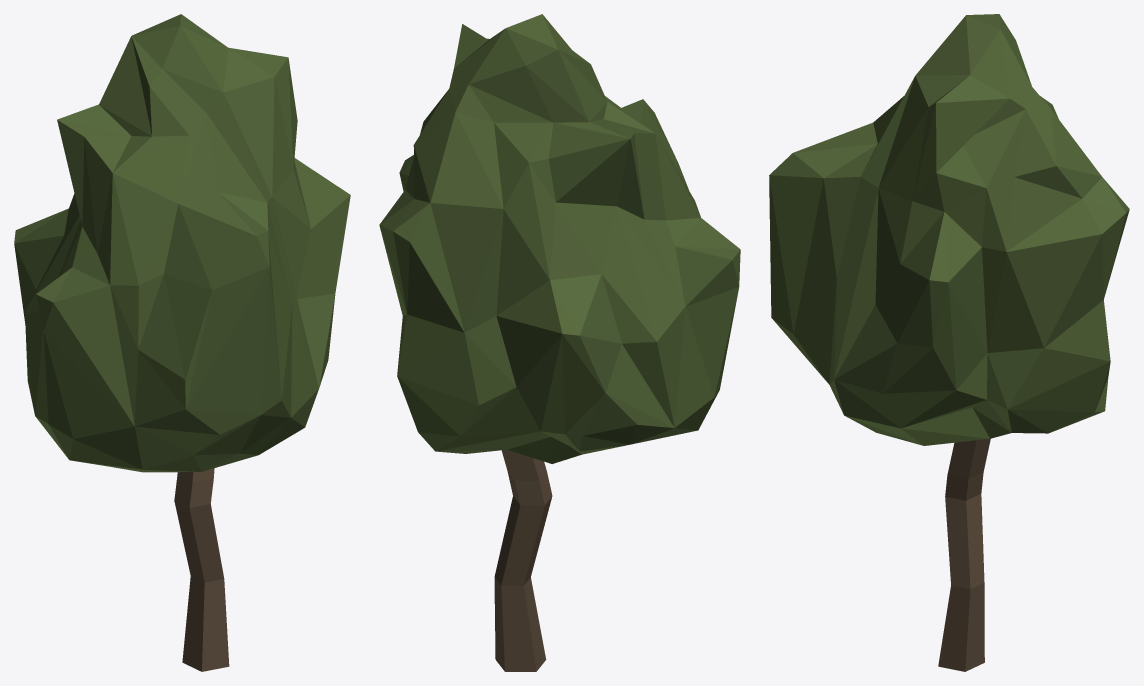
File: tree_24.fbx
3 renders of one model, left to right at view 1: azimuth 30°, elevation 25°; view 2: azimuth 150°, elevation 25°; view 3: azimuth 270°, elevation 25°, orthographic. The views are drawn at different scales.
Parts seen in each view (by area): view 1: tree_024; view 2: tree_024; view 3: tree_024.
Part boxes in pixels (x1=…): tree_024: x1=14, y1=14, x2=350, y2=671; tree_024: x1=379, y1=14, x2=740, y2=671; tree_024: x1=769, y1=14, x2=1129, y2=671.
Bounding box in the file's own units: 0.5538 × 1.07 × 0.5503.
Materials: 1 (1 with a texture image).
